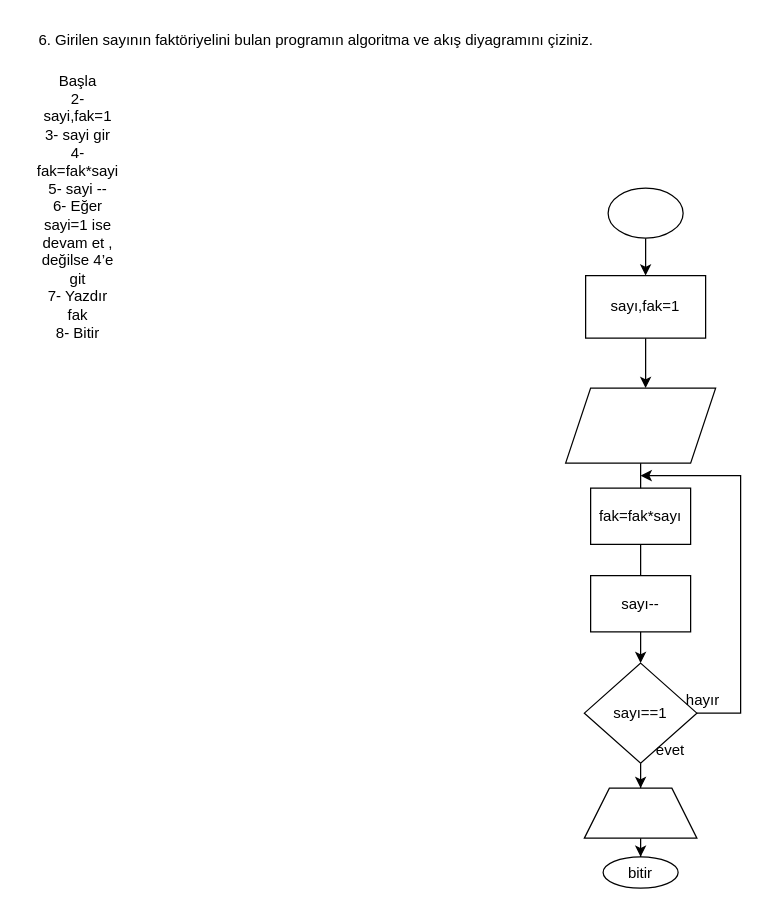
Image size: 773x910. Some labels were removed from this diagram. The centre of each missing label's shape, as x and y in pixels:
"başla" goes at pixel 645 212.
"fak" goes at pixel 640 812.
"sayı" goes at pixel 640 425.
